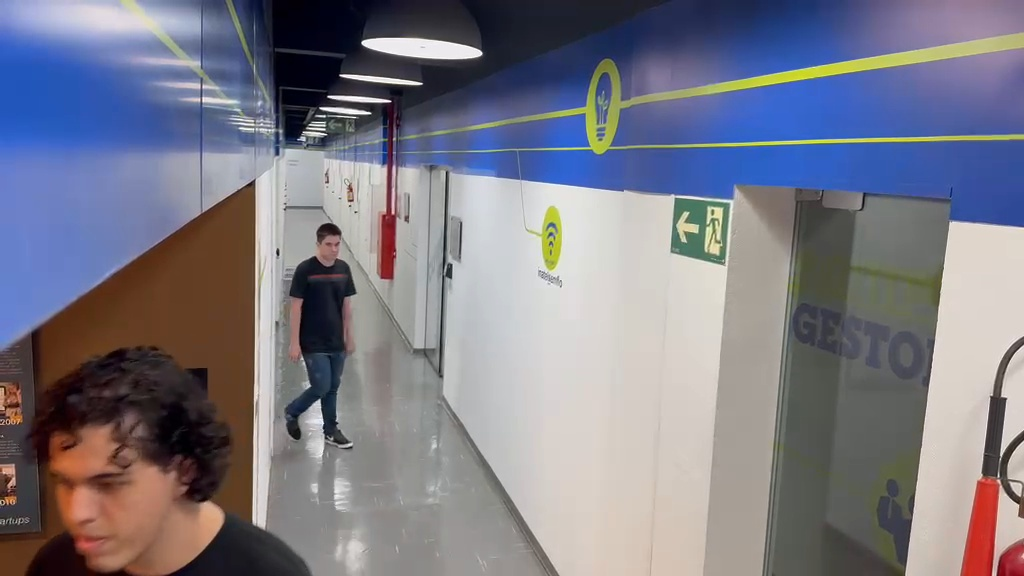person: (23, 346, 312, 571), (281, 221, 357, 448)
